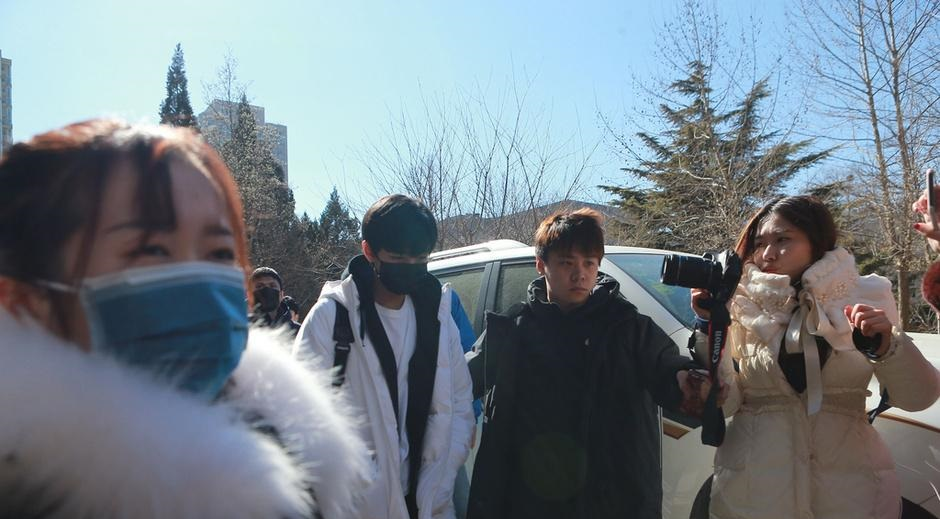face: (752, 215, 809, 280), (548, 249, 598, 301)
face_mask: (68, 175, 249, 410), (381, 243, 429, 292)
